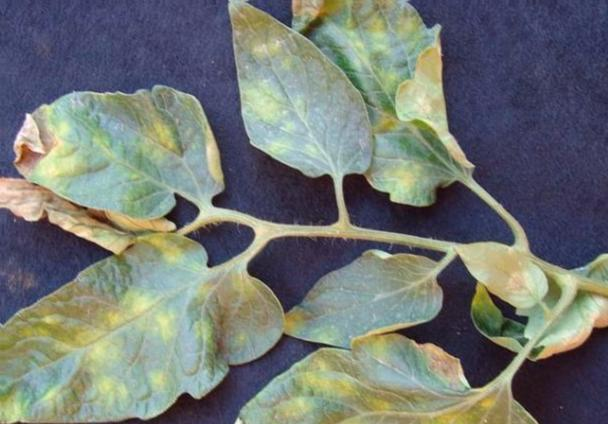Tomato mold leaf: (0, 235, 281, 424), (276, 0, 497, 203), (186, 328, 558, 424), (211, 0, 397, 182), (0, 73, 229, 217), (261, 250, 469, 348), (437, 230, 564, 314)
